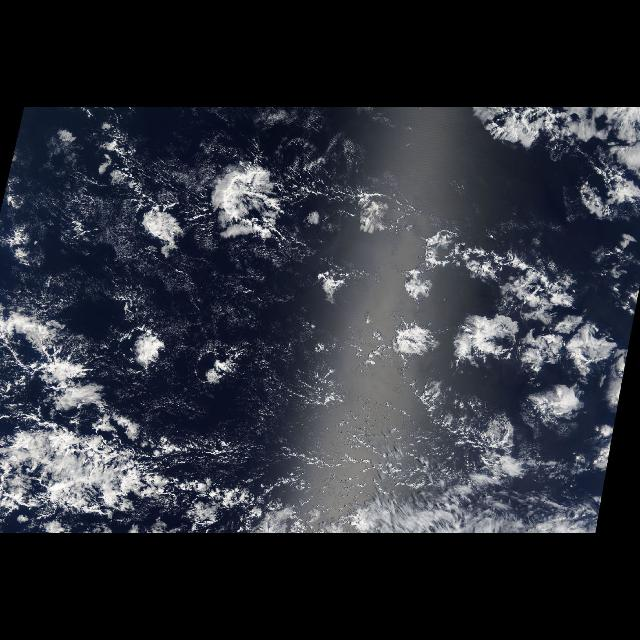Flower: (101, 140, 633, 482)
